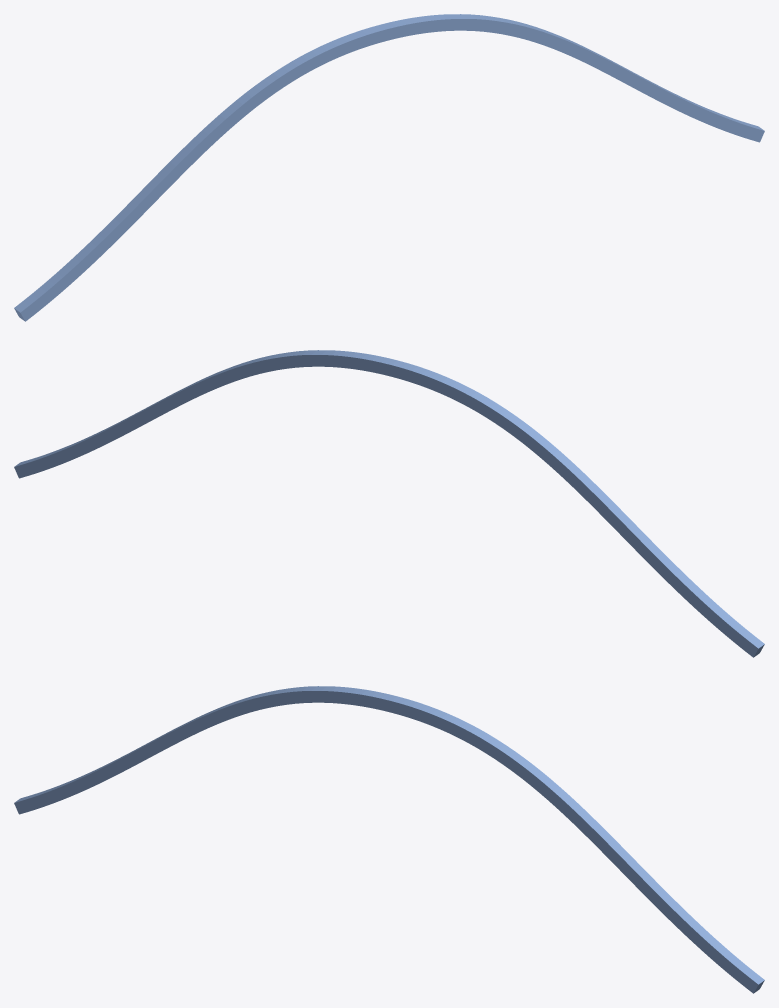
Rendered from Rail_Rainbow.glb.
The picture shows the model from 3 angles, top to bottom: view 1: azimuth 30°, elevation 25°; view 2: azimuth 150°, elevation 25°; view 3: azimuth 330°, elevation 25°; orthographic projection.
Visible parts, largest first — view 1: Rail_Rainbow_Rail; view 2: Rail_Rainbow_Rail; view 3: Rail_Rainbow_Rail.
Part boxes in pixels (box(x1,y1,x2,y2)): Rail_Rainbow_Rail: box(14, 14, 764, 321); Rail_Rainbow_Rail: box(14, 350, 764, 657); Rail_Rainbow_Rail: box(14, 686, 764, 993).
Bounding box in the file's own units: 6.04 × 1.58 × 0.09.
